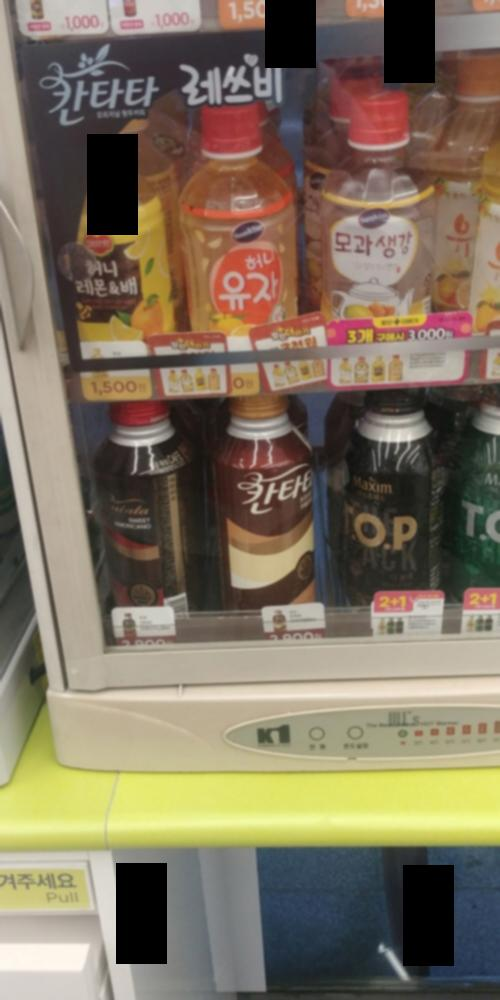TOP_black: (336, 395, 441, 611)
honeyyuja: (171, 108, 302, 344)
